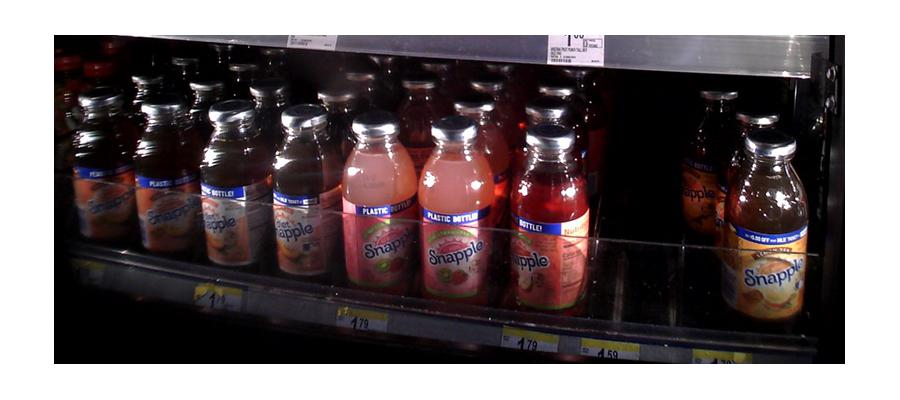bottle: (510, 113, 587, 316), (728, 128, 806, 326), (419, 116, 495, 305), (342, 111, 414, 296), (201, 97, 269, 278), (274, 103, 338, 286), (136, 92, 197, 261), (71, 89, 135, 247), (686, 81, 737, 276)
